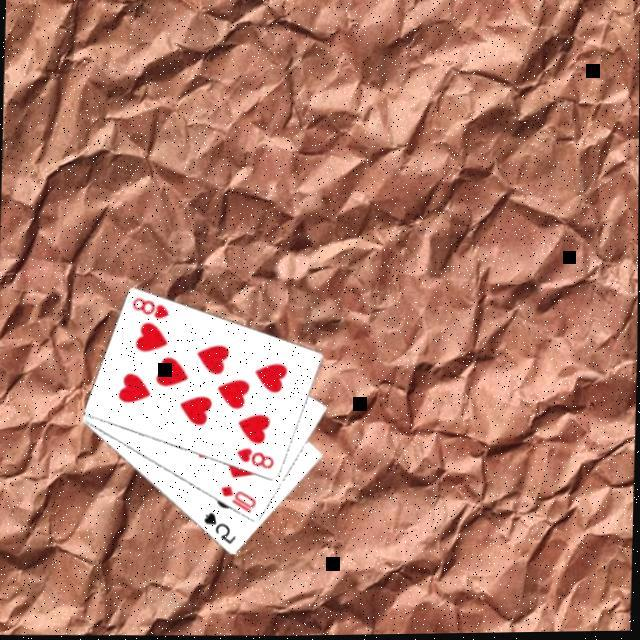10D: (220, 482, 262, 516)
5S: (202, 508, 242, 547)
8H: (236, 444, 280, 472), (130, 293, 173, 321)
